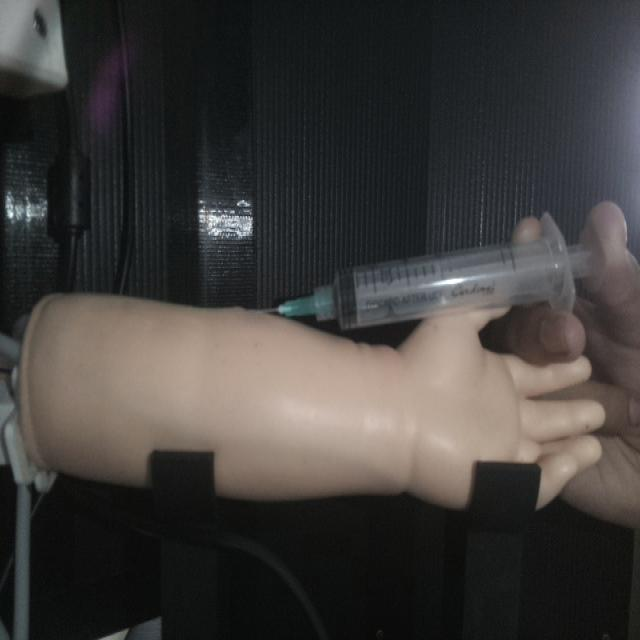Below 15 degrees: (259, 211, 596, 332)
